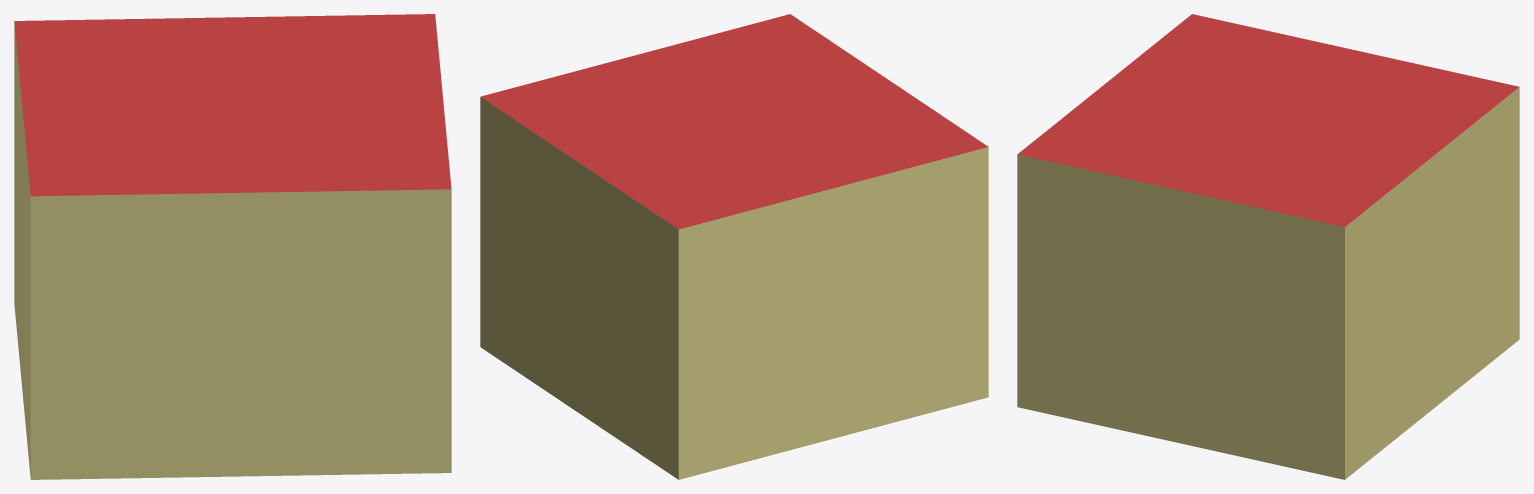
3 renders of one model, left to right at view 1: azimuth 30°, elevation 25°; view 2: azimuth 150°, elevation 25°; view 3: azimuth 270°, elevation 25°, orthographic. The views are drawn at different scales.
Visible parts, largest first — view 1: group_4, group_3; view 2: group_4, group_3; view 3: group_4, group_3.
Part boxes in pixels (x1,y1,x2,y2): group_4: [14, 22, 451, 479]; group_3: [14, 14, 451, 196]; group_4: [480, 97, 988, 479]; group_3: [481, 14, 988, 229]; group_4: [1017, 87, 1519, 479]; group_3: [1018, 14, 1519, 226].
Size of the model in its own units: 16.68 by 16.6 by 9.22.
